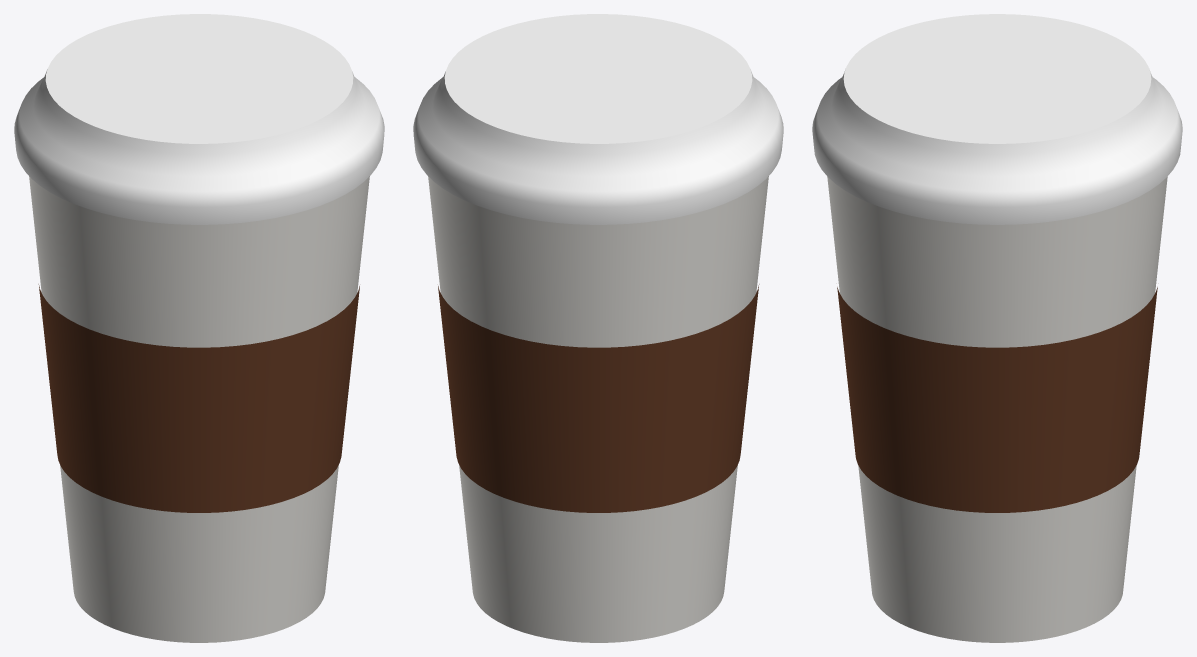
Rendered from coffee-cup.glb.
3 renders of one model, left to right at view 1: azimuth 30°, elevation 25°; view 2: azimuth 150°, elevation 25°; view 3: azimuth 270°, elevation 25°, orthographic.
Visible parts, largest first — view 1: body, lid, label; view 2: body, lid, label; view 3: body, lid, label.
Boxes of the visible parts, x1,y1,x2,y2 form: body: [29, 176, 369, 642]; lid: [14, 14, 384, 224]; label: [38, 284, 359, 512]; body: [428, 176, 768, 642]; lid: [413, 14, 783, 224]; label: [438, 284, 759, 512]; body: [827, 177, 1167, 642]; lid: [812, 14, 1182, 224]; label: [837, 287, 1157, 512].
Bounding box in the file's own units: 0.6996 × 1.06 × 0.6996.
